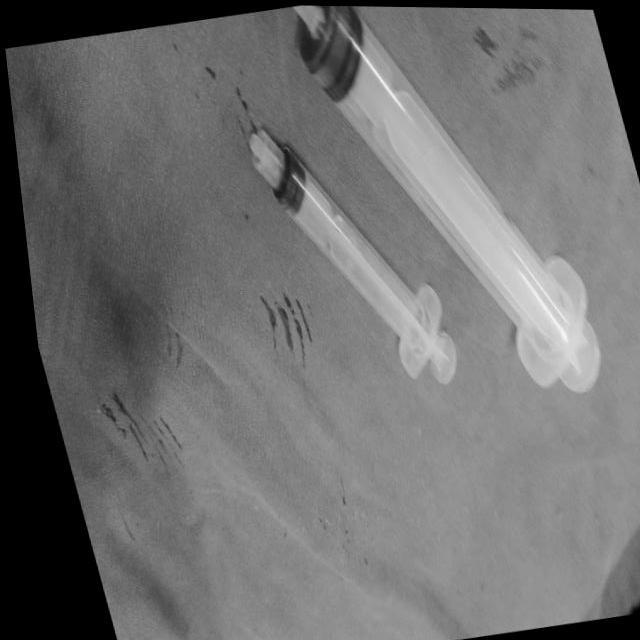General: (290, 2, 364, 102)
Pathological: (5, 3, 639, 639)
Sharps: (289, 4, 602, 392), (245, 124, 458, 384)
